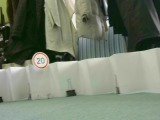speed_20: (31, 52, 49, 69)
